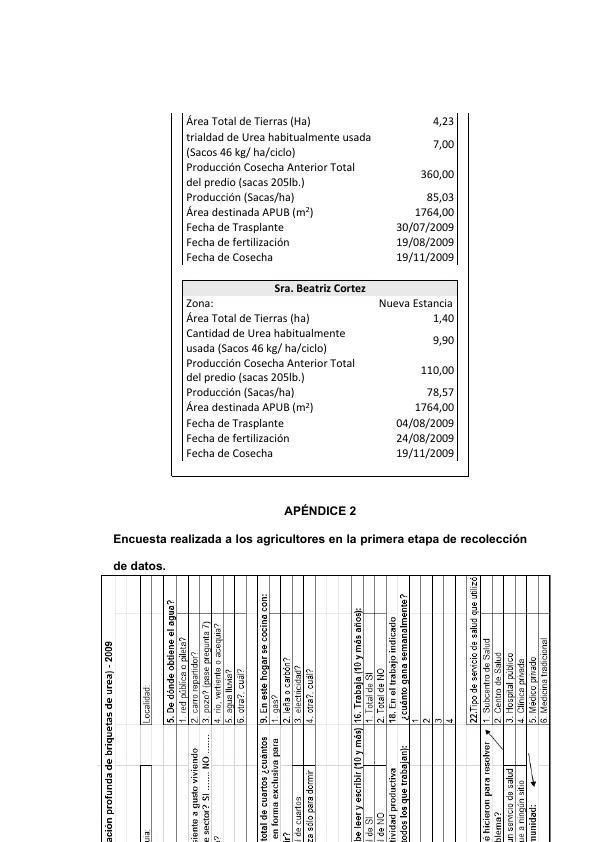table: (97, 573, 555, 842), (166, 110, 479, 485)
text: (109, 530, 530, 549), (281, 501, 361, 520), (110, 559, 168, 571)
